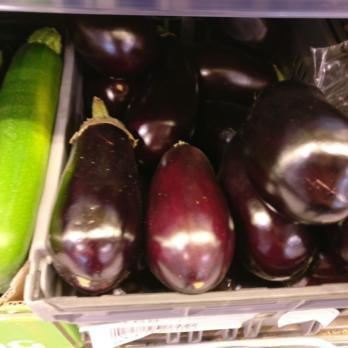Brinjal: (49, 10, 348, 291)
